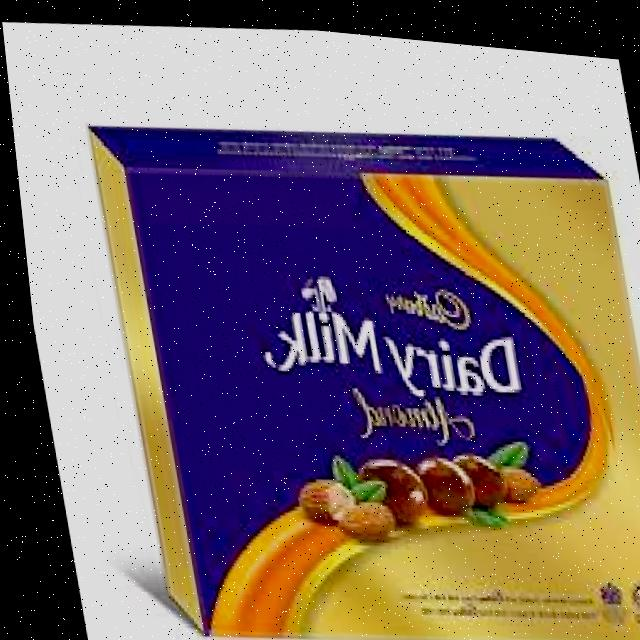cadbury: (76, 83, 640, 640)
